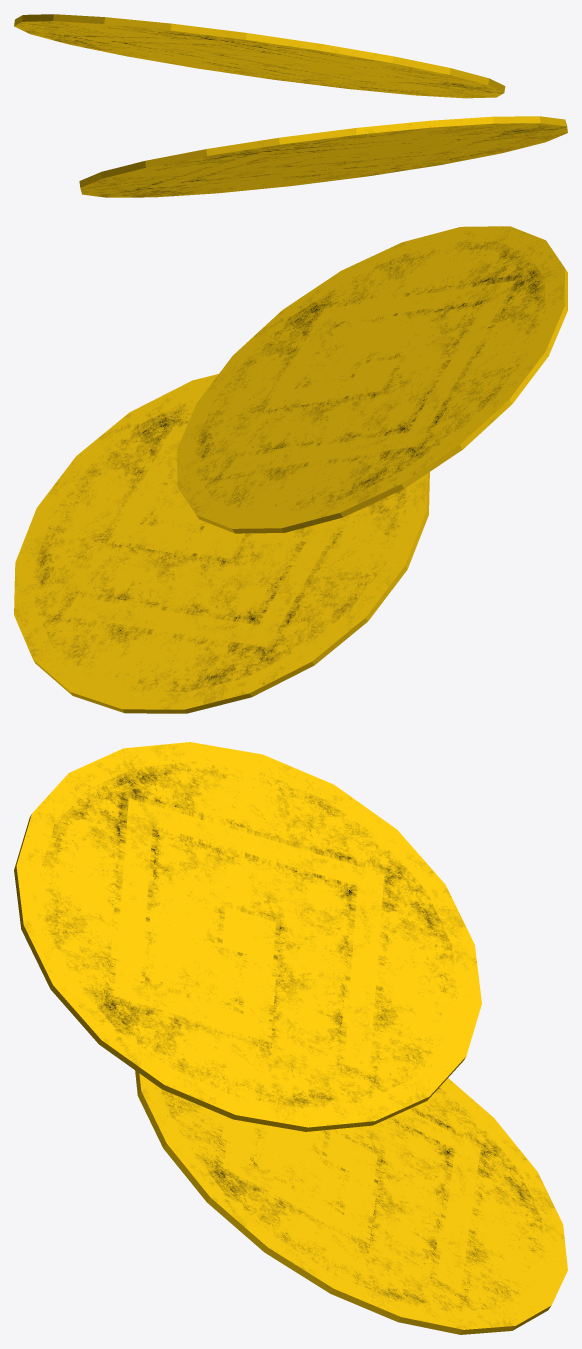
Rendered from Bag Middle Coins.fbx.
The picture shows the model from 3 angles, top to bottom: view 1: azimuth 30°, elevation 25°; view 2: azimuth 150°, elevation 25°; view 3: azimuth 270°, elevation 25°; orthographic projection. The views are drawn at different scales.
Visible parts, largest first — view 1: Bag_Middle_Coins; view 2: Bag_Middle_Coins; view 3: Bag_Middle_Coins.
Boxes of the visible parts, bbox=[...] form: Bag_Middle_Coins: bbox=[14, 14, 567, 197]; Bag_Middle_Coins: bbox=[14, 226, 567, 713]; Bag_Middle_Coins: bbox=[14, 742, 567, 1334].
Size of the model in its own units: 7.69 by 5.54 by 6.96.
